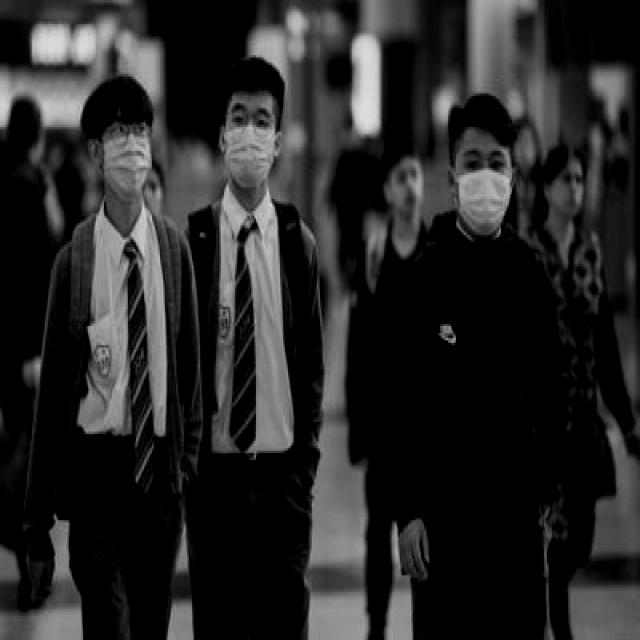face_mask: (456, 144, 514, 237), (99, 110, 155, 199), (226, 99, 276, 190)
face_nomask: (392, 163, 426, 213), (554, 163, 586, 216)
glasses: (223, 105, 274, 142), (108, 117, 154, 151)
hand_noglove: (393, 518, 433, 587), (24, 543, 61, 610)
head_nohelmet: (88, 70, 157, 124), (453, 89, 509, 146), (221, 60, 277, 105)
person: (174, 38, 353, 640), (26, 57, 191, 640), (378, 84, 550, 640)
